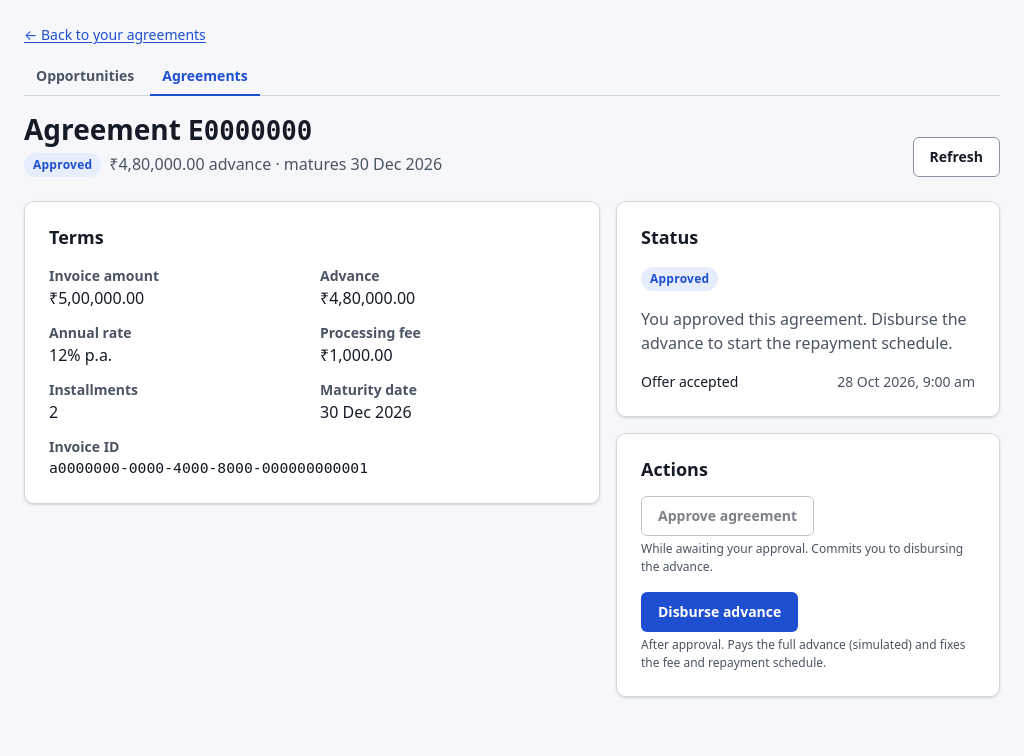
Test case: AgreementDetailComponent › shows the latest state when the agreement changed meanwhile
What coordinates should you click on to do the following:
click the button "Disburse advance"
I would click on:
 (720, 612)
Its box is 641,592 -> 798,632.
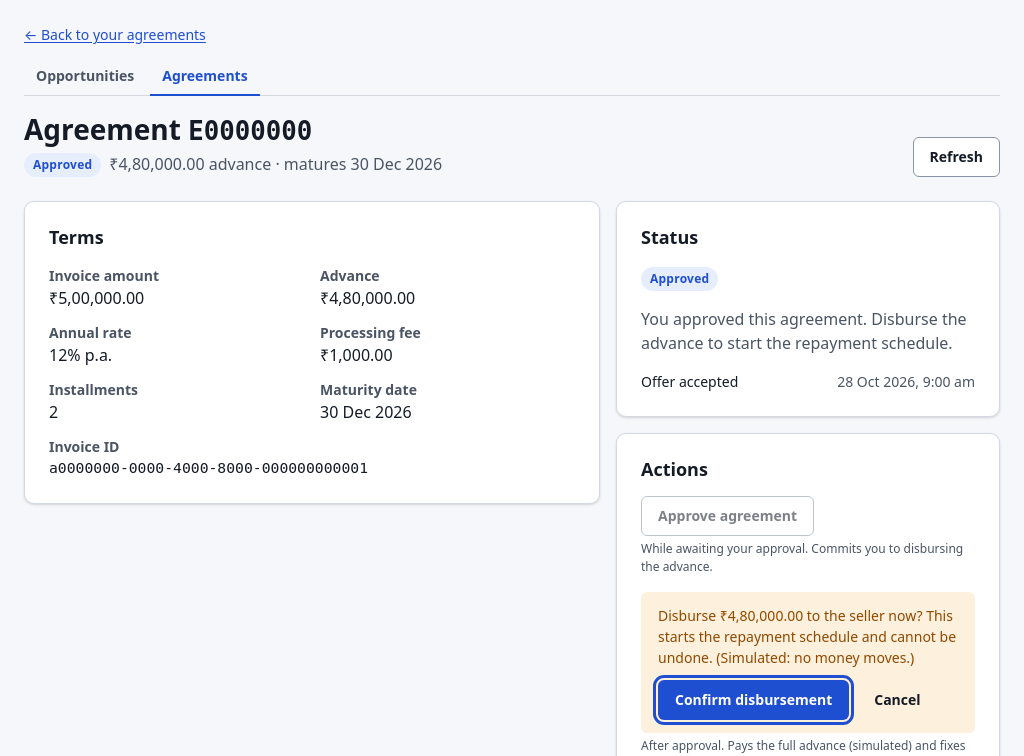
What coordinates should you click on to do the following:
click the button "Confirm disbursement"
I would click on:
 (754, 700)
Its box is 658,680 -> 849,720.
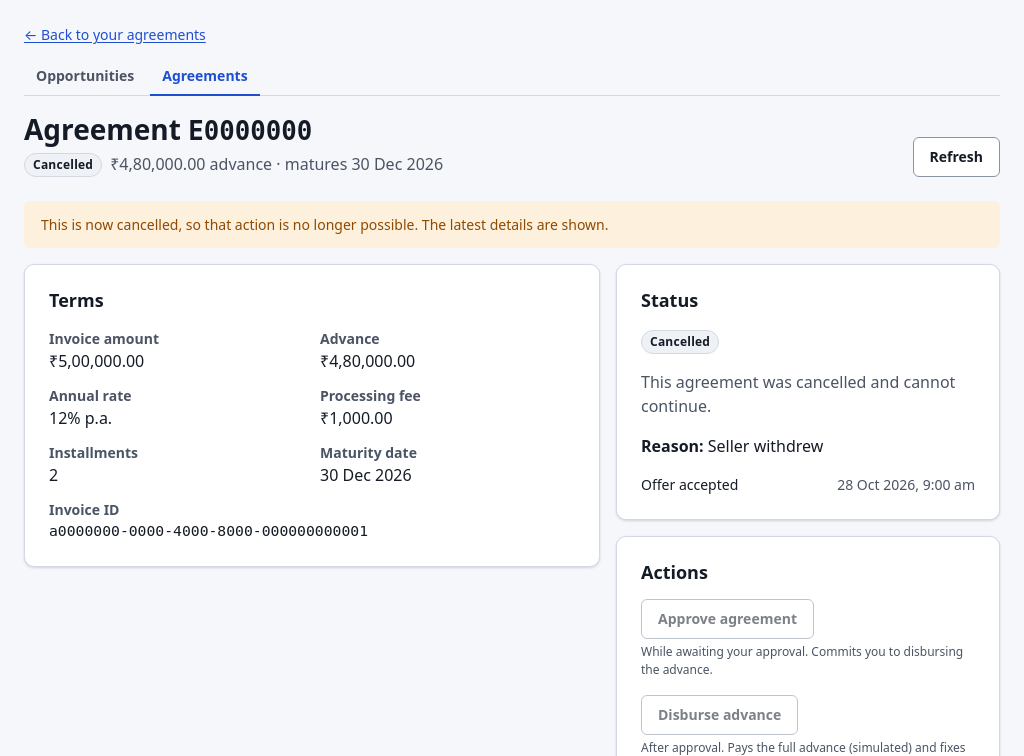
Check: the message with class "notice" shows "This is now cancelled", box 41,215 -> 608,234
Check: the text with class "badge" below "E0000000" reads "Cancelled", box 33,156 -> 93,173
Check: the text "Seller withdrew" is shown, box 704,435 -> 823,457
